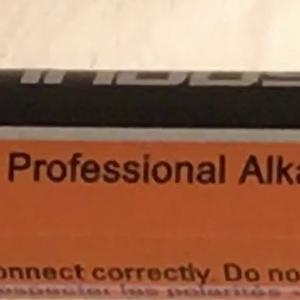ALK: (228, 144, 284, 195)
